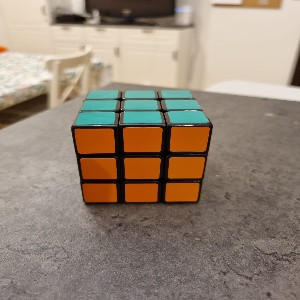cube: (71, 90, 214, 204)
